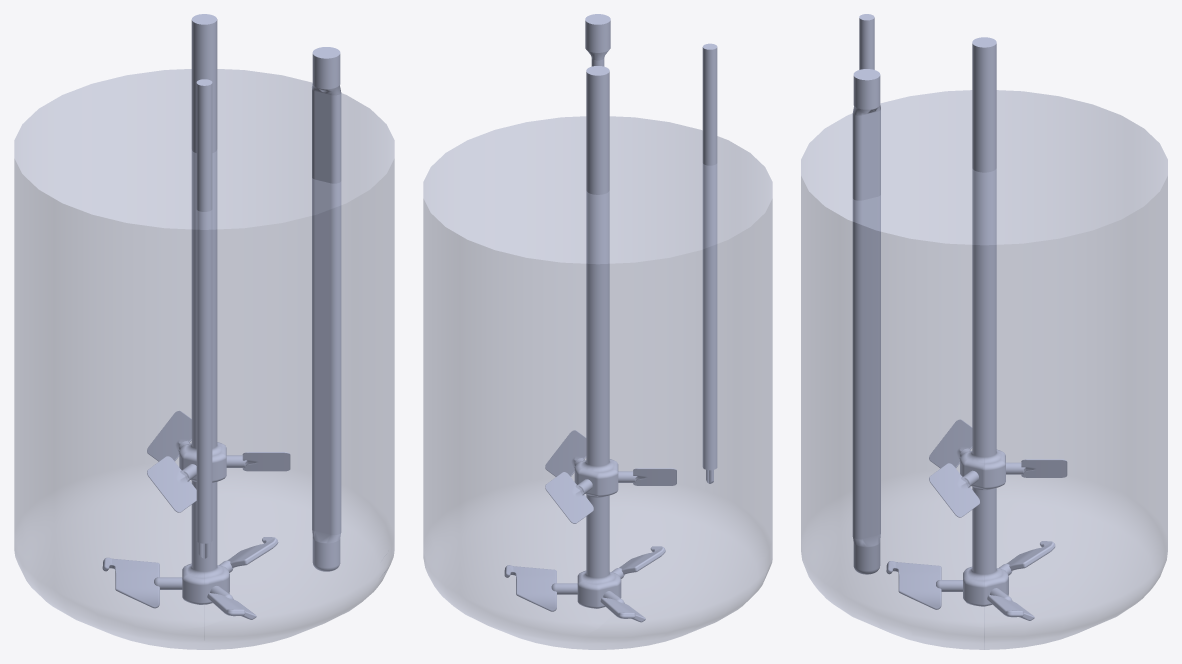
3 views of the same model, side by side, from view 1: azimuth 30°, elevation 25°; view 2: azimuth 150°, elevation 25°; view 3: azimuth 270°, elevation 25° (orthographic). The views are drawn at different scales.
Parts seen in each view (by area): view 1: R-4140_Tank (flat top), R-4140_Impeller, R-4140_Baffle, R-4140_Feed Pipe; view 2: R-4140_Tank (flat top), R-4140_Impeller, R-4140_Feed Pipe, R-4140_Baffle; view 3: R-4140_Tank (flat top), R-4140_Impeller, R-4140_Baffle, R-4140_Feed Pipe.
Boxes of the visible parts, x1,y1,x2,y2 form: R-4140_Tank (flat top): (14,69,394,649); R-4140_Impeller: (102,14,290,619); R-4140_Baffle: (312,47,341,571); R-4140_Feed Pipe: (196,79,212,558); R-4140_Tank (flat top): (423,116,772,649); R-4140_Impeller: (504,66,676,622); R-4140_Feed Pipe: (702,43,717,483); R-4140_Baffle: (585,14,610,66); R-4140_Tank (flat top): (801,90,1167,649); R-4140_Impeller: (886,37,1067,620); R-4140_Baffle: (852,69,880,574); R-4140_Feed Pipe: (859,14,874,69).
Bounding box in the file's own units: 2.44 × 4.28 × 2.43.
